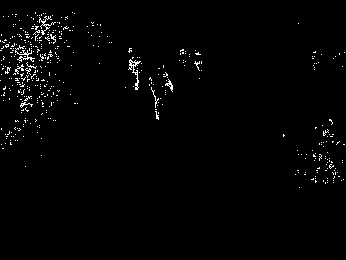person: (149, 62, 173, 122)
